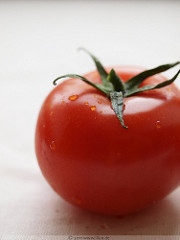tomato: (35, 65, 180, 216)
